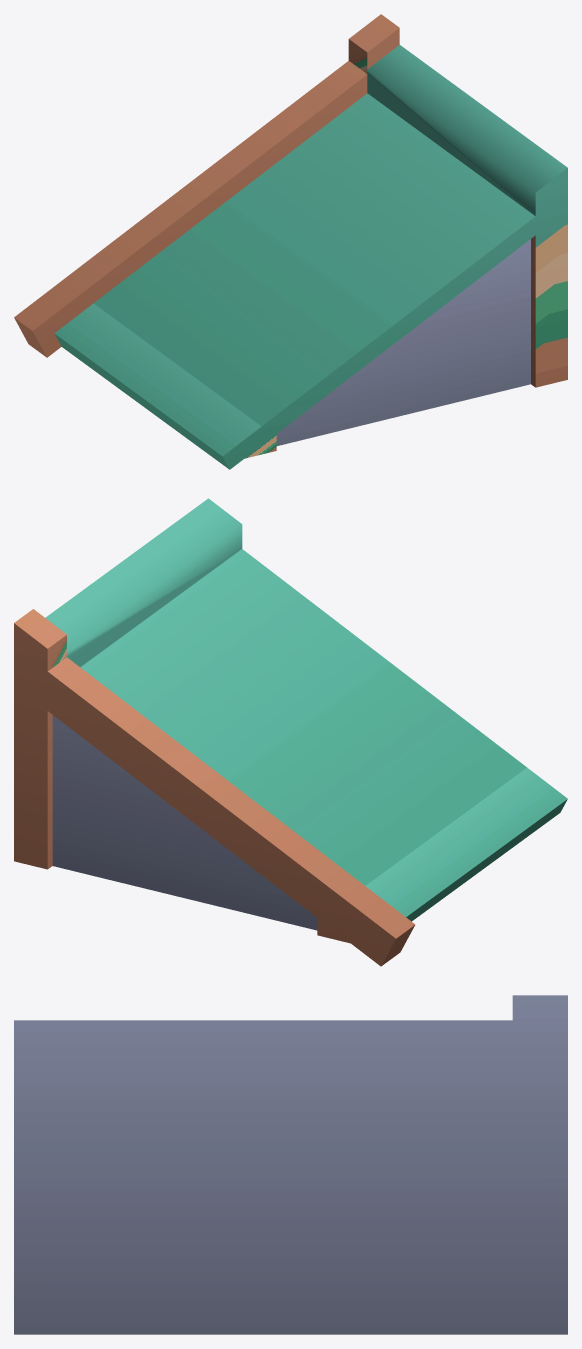
Rendered from roof-left.glb.
3 views of the same model, one above another, from view 1: azimuth 30°, elevation 25°; view 2: azimuth 150°, elevation 25°; view 3: azimuth 270°, elevation 25° (orthographic). The views are drawn at different scales.
Visible parts, largest first — view 1: roof-left; view 2: roof-left; view 3: roof-left.
Boxes of the visible parts, <box> form: roof-left: <box>14,14,567,469</box>; roof-left: <box>14,498,567,966</box>; roof-left: <box>14,995,567,1334</box>.
Size of the model in its own units: 1.13 by 0.7206 by 1.
Materials: 1 (1 with a texture image).
